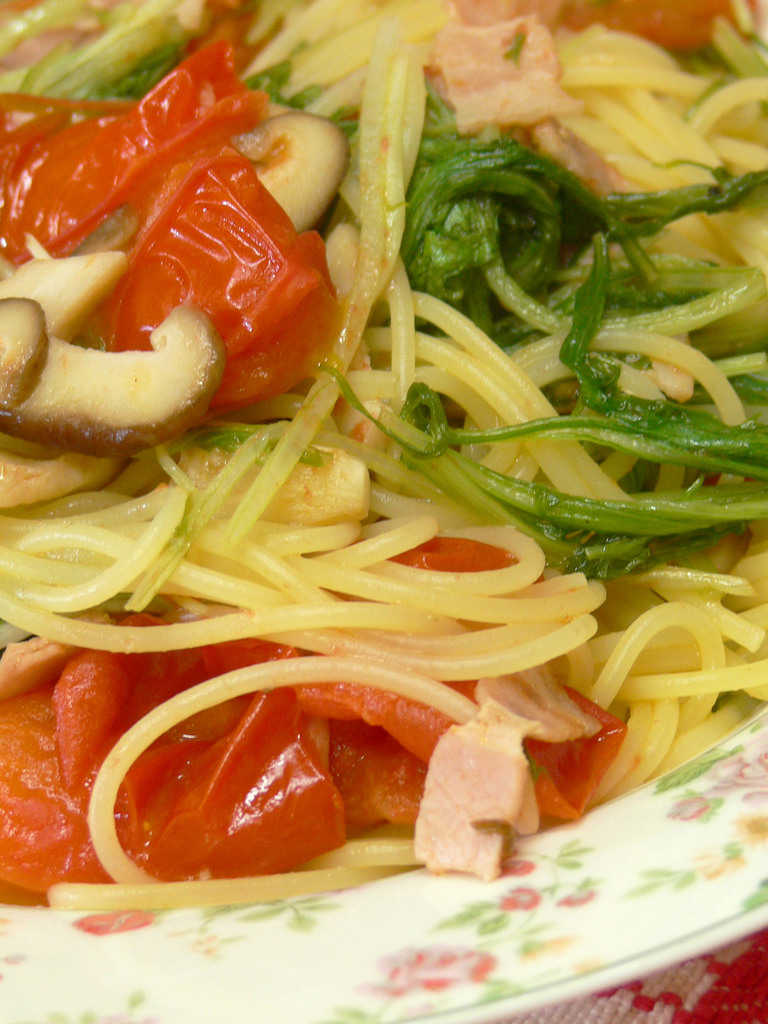Tomato: (137, 165, 342, 399)
